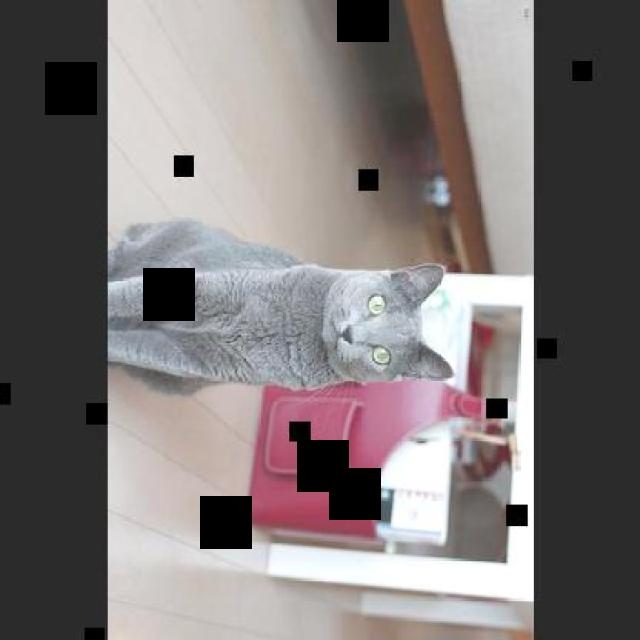unauthorized: (106, 217, 454, 394)
